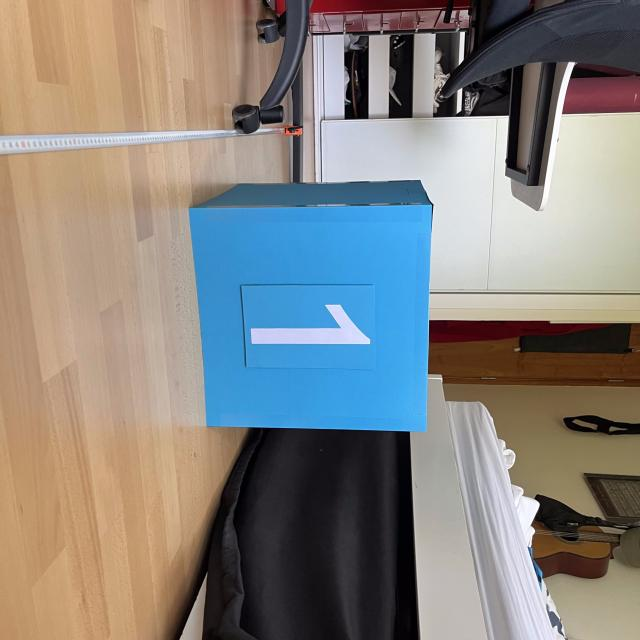box: (183, 175, 437, 434)
